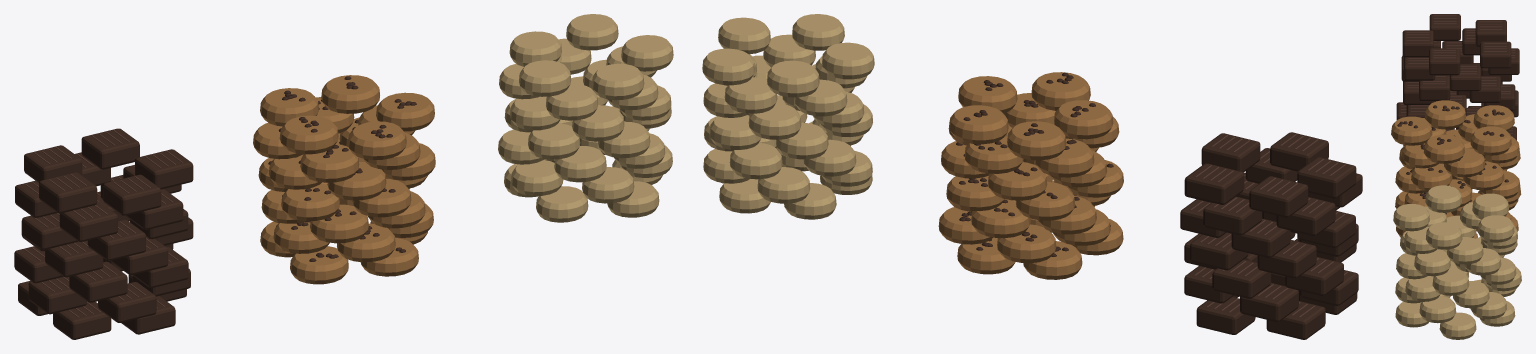
File: biscuits.glb
3 renders of one model, left to right at view 1: azimuth 30°, elevation 25°; view 2: azimuth 150°, elevation 25°; view 3: azimuth 270°, elevation 25°, orthographic. The views are drawn at different scales.
Visible parts, largest first — view 1: biscuits; view 2: biscuits; view 3: biscuits.
Part boxes in pixels (x1,y1,x2,y2): biscuits: (14,14,673,339); biscuits: (702,14,1362,339); biscuits: (1391,14,1521,339).
Bounding box in the file's own units: 0.8749 × 0.1888 × 0.2131.
